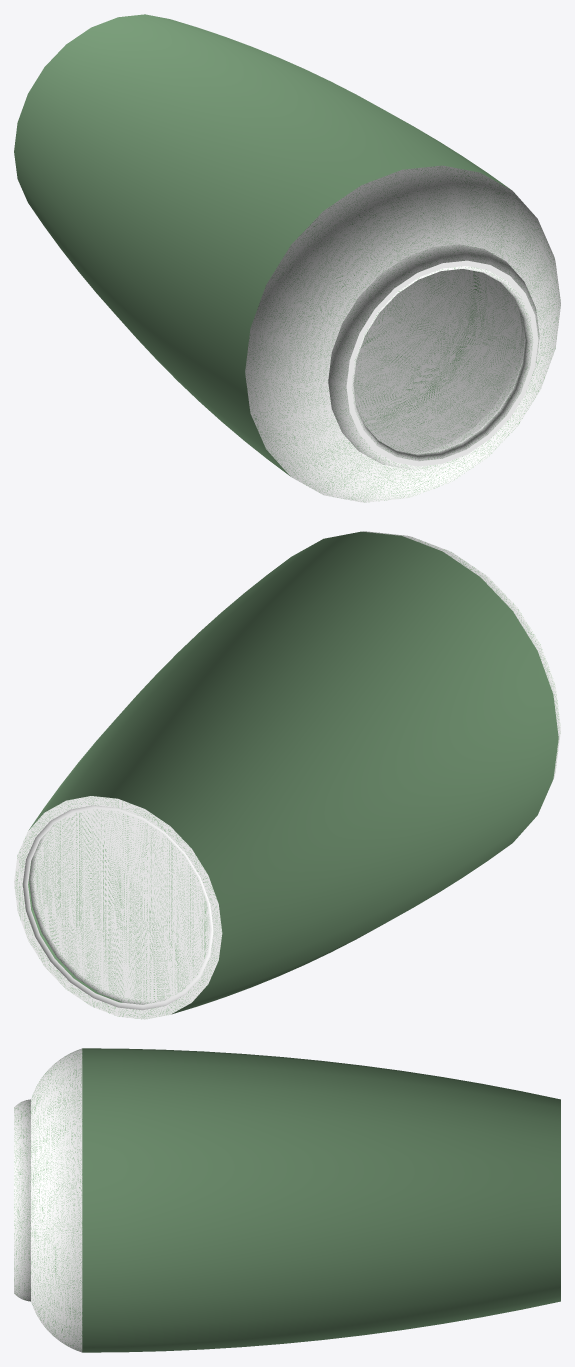
Rendered from model_align.obj.
The picture shows the model from 3 angles, top to bottom: view 1: azimuth 30°, elevation 25°; view 2: azimuth 150°, elevation 25°; view 3: azimuth 270°, elevation 25°; orthographic projection. The views are drawn at different scales.
Visible parts, largest first — view 1: mesh1_mesh1-geometry; view 2: mesh1_mesh1-geometry; view 3: mesh1_mesh1-geometry.
Boxes of the visible parts, x1,y1,x2,y2 form: mesh1_mesh1-geometry: (14,14,560,502); mesh1_mesh1-geometry: (14,531,560,1019); mesh1_mesh1-geometry: (14,1048,560,1352).
Size of the model in its own units: 0.0702 by 0.0702 by 0.1258.
